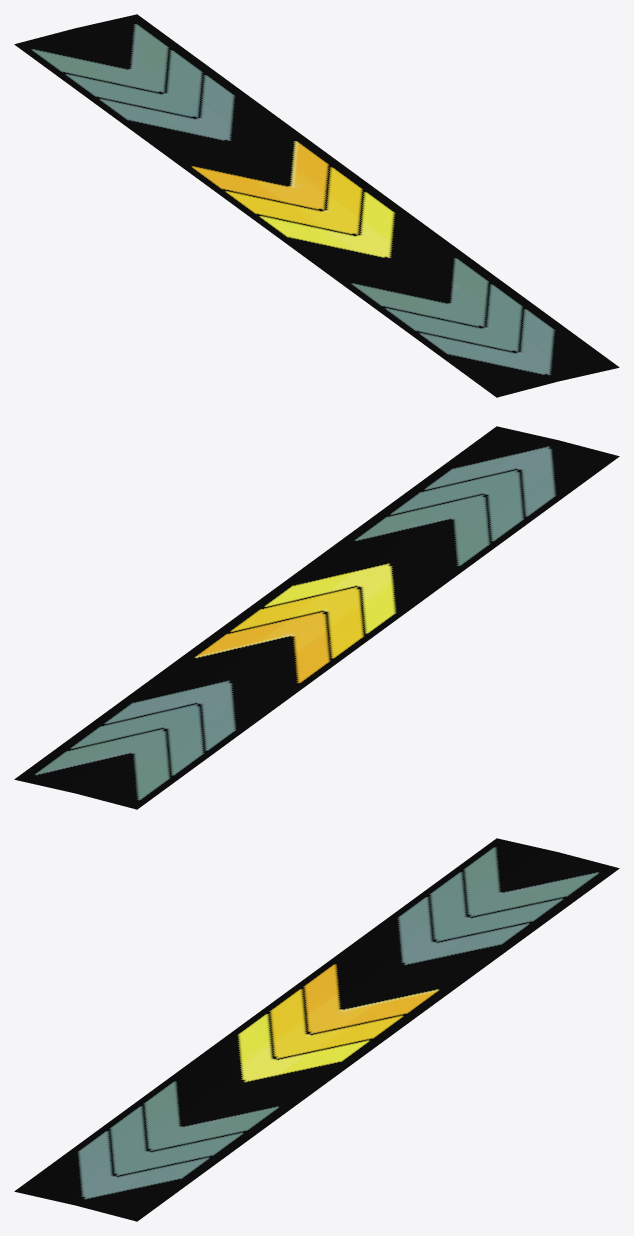
The model's file is nml-bd201.glb.
3 views of the same model, one above another, from view 1: azimuth 30°, elevation 25°; view 2: azimuth 150°, elevation 25°; view 3: azimuth 330°, elevation 25° (orthographic).
Visible parts, largest first — view 1: geom_node_0; view 2: geom_node_0; view 3: geom_node_0.
Boxes of the visible parts, bbox=[...] form: geom_node_0: bbox=[14, 14, 619, 397]; geom_node_0: bbox=[14, 426, 619, 809]; geom_node_0: bbox=[14, 838, 619, 1221].
Bounding box in the file's own units: 1.14 × 0.00989 × 7.76.
Materials: 1 (1 with a texture image).
